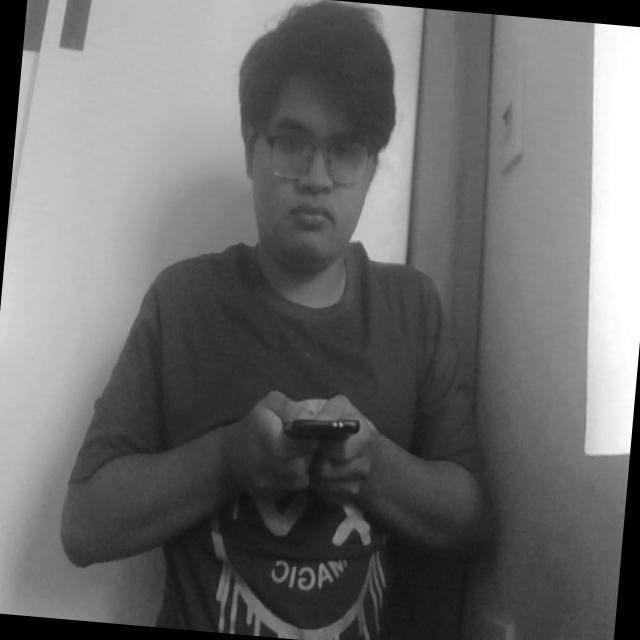phone: (266, 382, 369, 470)
